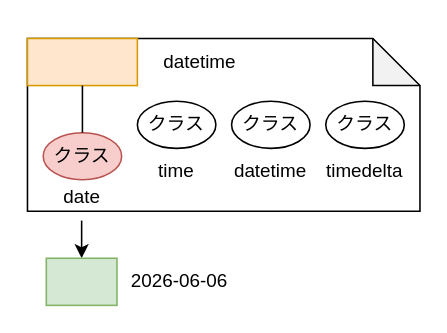
Some shapes in this 447 by 333 pixel diagram are drawn without their labels. Here are the shapes that lost their labels. From the top down, the box of each, then its label:
(26, 37, 137, 86): モジュール
(45, 257, 117, 305): インスタンス
